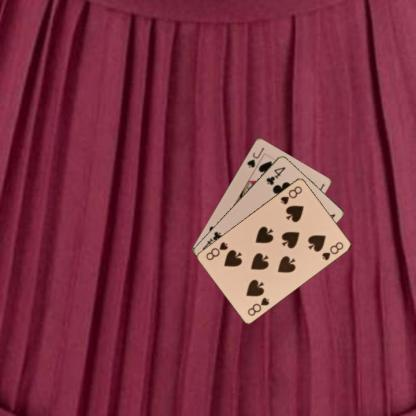4c: (264, 164, 286, 186)
8s: (278, 183, 303, 206), (245, 294, 270, 317)
Js: (244, 144, 266, 169)
